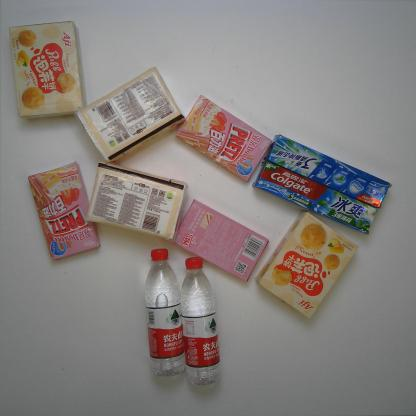Dessert: (253, 207, 361, 319), (174, 96, 275, 181), (170, 198, 270, 283), (8, 19, 86, 120), (27, 159, 101, 262)
Drink: (179, 253, 223, 387), (144, 247, 187, 378)
Personal Hygiene: (244, 157, 379, 234), (263, 133, 393, 209)
Tissue: (73, 65, 190, 164), (83, 160, 194, 244)
